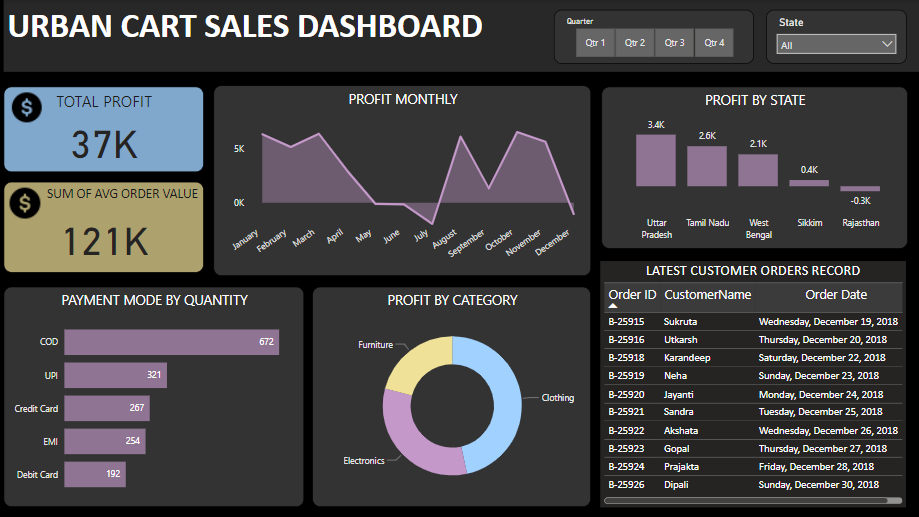

Layout of this report page (visuals, bound fields, positions):
{"tool":"powerbi","page":{"name":"Page 1","canvas":[1280,720],"ordinal":0},"visuals":[{"type":"textbox","box":[5.6,0,1274,99],"z":0},{"type":"areaChart","title":"PROFIT MONTHLY","fields":{"Category":["Orders.Order Date.Variation.Date Hierarchy.Month"],"Y":["Details.Profit"]},"box":[295.1,117.7,521.2,263.4],"z":1000},{"type":"clusteredBarChart","title":"PAYMENT MODE BY QUANTITY","fields":{"Category":["Details.PaymentMode"],"Y":["Details.Quantity"]},"box":[5.6,396,414.7,304.5],"z":2000},{"type":"donutChart","title":"PROFIT BY CATEGORY","fields":{"Y":["Details.Quantity"],"Category":["Details.Category"]},"box":[431.5,396,384.8,304.5],"z":3000},{"type":"card","title":"TOTAL PROFIT","fields":{"Values":["Details.Profit"]},"box":[5.1,119.6,276.2,117.9],"z":4000},{"type":"card","title":"SUM OF AVG ORDER VALUE","fields":{"Values":["Details.Aov"]},"box":[5.6,250.3,276.5,125.2],"z":5000},{"type":"tableEx","title":"LATEST CUSTOMER ORDERS RECORD","fields":{"Values":["Details.Order ID","Orders.CustomerName","Orders.Order Date"]},"box":[829.4,360.5,422.2,340],"z":6000},{"type":"clusteredColumnChart","title":"PROFIT BY STATE","fields":{"Category":["Orders.State"],"Y":["Details.Profit"]},"box":[830.3,119.6,422.8,224],"z":7000},{"type":"image","box":[5.1,117.9,64,60.6],"z":8000},{"type":"slicer","fields":{"Values":["Orders.Order Date.Variation.Date Hierarchy.Quarter"]},"box":[764,13.1,276.5,74.7],"z":9000},{"type":"slicer","fields":{"Values":["Orders.State"]},"box":[1057.3,13.1,194.3,74.7],"z":10000},{"type":"image","box":[0,249.3,69.1,62.3],"z":11000}]}

Visuals, with their boxes in screenshot pixels (x1, y1, x2, y2), scaled from the page's 1280x720 canvas onto the 919x517 screenshot:
textbox: rect(4, 0, 918, 71)
"PROFIT MONTHLY" areaChart: rect(212, 85, 586, 274)
"PAYMENT MODE BY QUANTITY" clusteredBarChart: rect(4, 284, 302, 503)
"PROFIT BY CATEGORY" donutChart: rect(310, 284, 586, 503)
"TOTAL PROFIT" card: rect(4, 86, 202, 171)
"SUM OF AVG ORDER VALUE" card: rect(4, 180, 203, 270)
"LATEST CUSTOMER ORDERS RECORD" tableEx: rect(595, 259, 899, 503)
"PROFIT BY STATE" clusteredColumnChart: rect(596, 86, 900, 247)
image: rect(4, 85, 50, 128)
slicer - Orders.Order Date.Variation.Date Hierarchy.Quarter: rect(549, 9, 747, 63)
slicer - Orders.State: rect(759, 9, 899, 63)
image: rect(0, 179, 50, 224)
